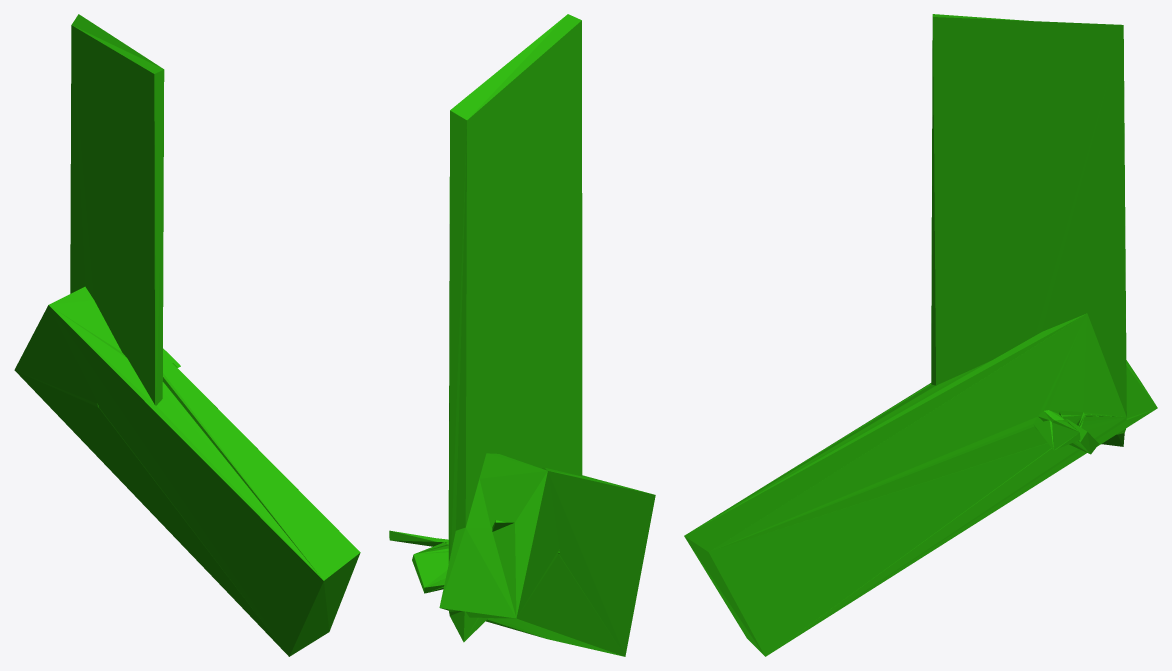
3 renders of one model, left to right at view 1: azimuth 30°, elevation 25°; view 2: azimuth 150°, elevation 25°; view 3: azimuth 270°, elevation 25°, orthographic. The views are drawn at different scales.
Visible parts, largest first — view 1: 244_Cube.1002; view 2: 244_Cube.1002; view 3: 244_Cube.1002.
Boxes of the visible parts, x1,y1,x2,y2 form: 244_Cube.1002: [14, 14, 360, 656]; 244_Cube.1002: [389, 14, 655, 656]; 244_Cube.1002: [684, 14, 1157, 656].
Size of the model in its own units: 5.13 by 17.3 by 12.41.
